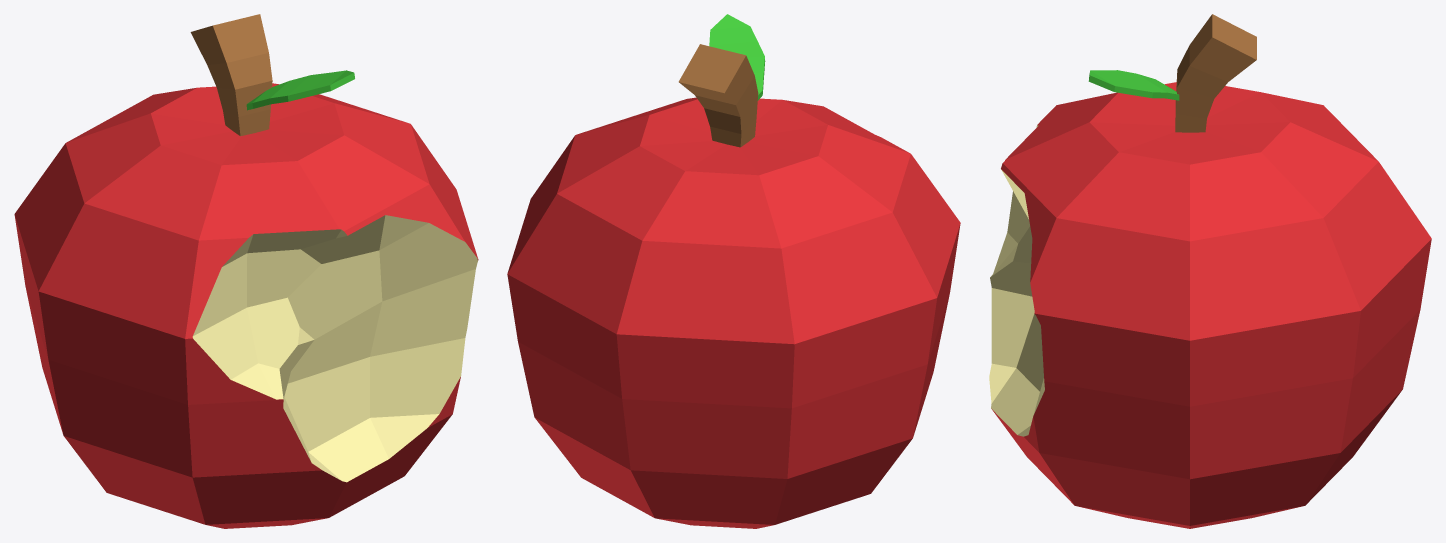
The model's file is Apple.glb.
3 renders of one model, left to right at view 1: azimuth 30°, elevation 25°; view 2: azimuth 150°, elevation 25°; view 3: azimuth 270°, elevation 25°, orthographic. The views are drawn at different scales.
Parts seen in each view (by area): view 1: Cylinder; view 2: Cylinder; view 3: Cylinder.
Boxes of the visible parts, x1,y1,x2,y2 form: Cylinder: (14,14,478,528); Cylinder: (507,14,960,528); Cylinder: (989,14,1431,528).
Bounding box in the file's own units: 2.1 × 2.23 × 1.92.
